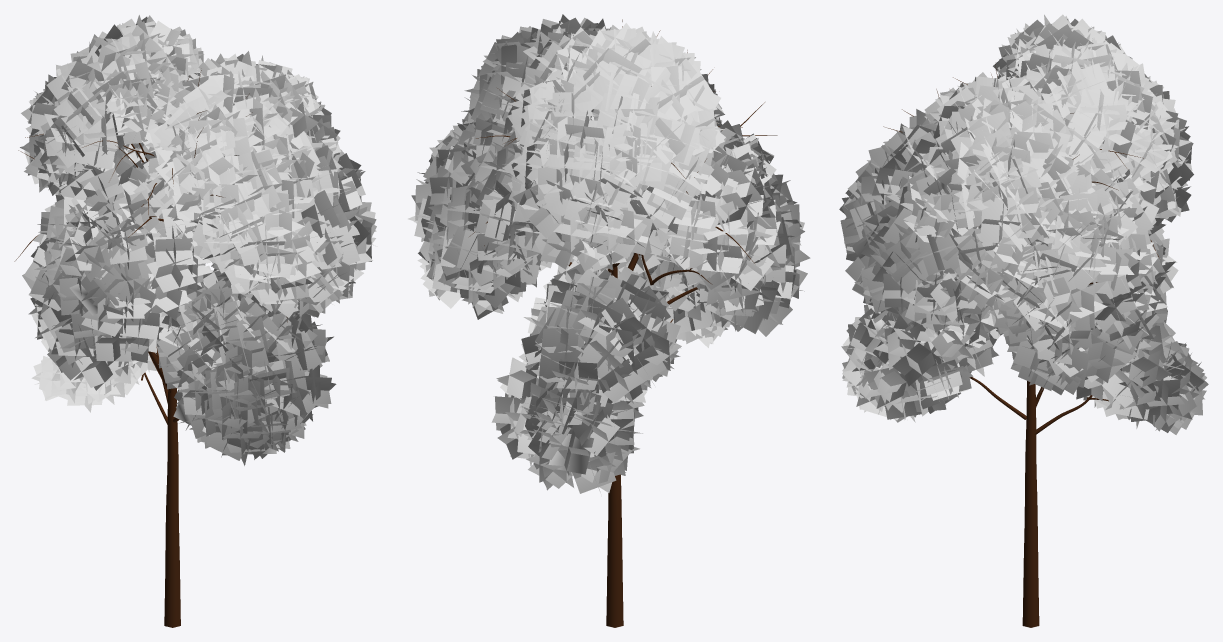
The model's file is Tree_2.fbx.
3 views of the same model, side by side, from view 1: azimuth 30°, elevation 25°; view 2: azimuth 150°, elevation 25°; view 3: azimuth 270°, elevation 25° (orthographic). The views are drawn at different scales.
Parts seen in each view (by area): view 1: Leave_2, Trunk_2; view 2: Leave_2, Trunk_2; view 3: Leave_2, Trunk_2.
Part boxes in pixels (x1=…): Leave_2: x1=20, y1=15, x2=376, y2=465; Trunk_2: x1=14, y1=70, x2=287, y2=627; Leave_2: x1=408, y1=14, x2=810, y2=493; Trunk_2: x1=469, y1=19, x2=777, y2=627; Leave_2: x1=839, y1=14, x2=1208, y2=434; Trunk_2: x1=883, y1=64, x2=1159, y2=627.
Size of the model in its own units: 737 by 1256 by 711.
